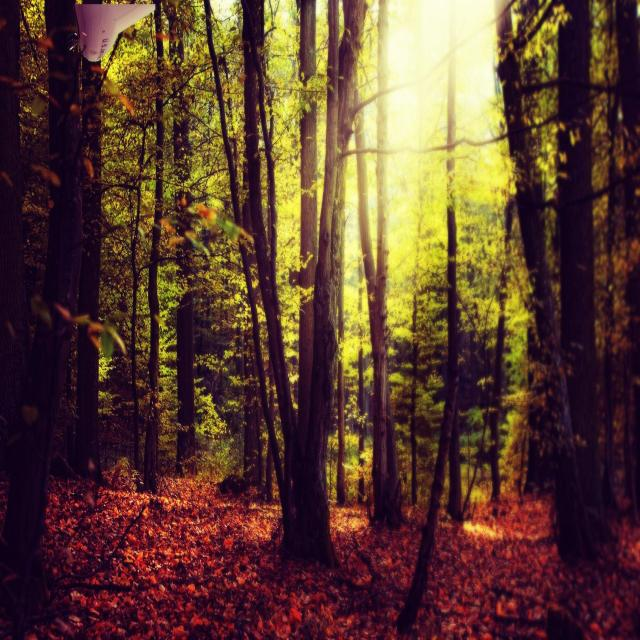airplane: (76, 0, 156, 62)
